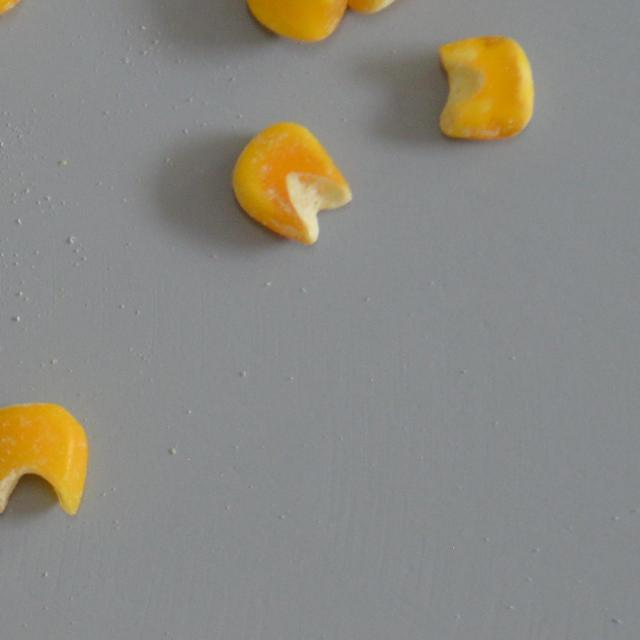no_canjicado: (0, 402, 88, 516), (244, 0, 350, 42)
pelicula: (228, 120, 352, 244), (436, 34, 536, 142), (312, 0, 420, 14)
